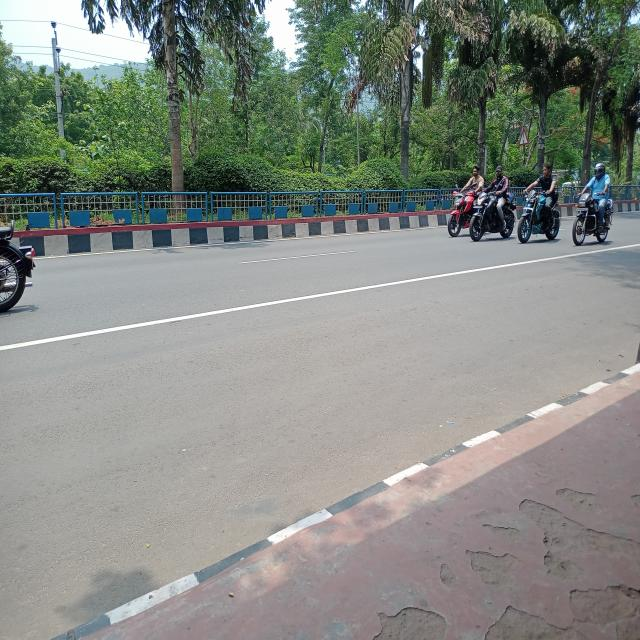bike: (570, 188, 616, 249), (516, 190, 564, 247), (467, 193, 516, 245), (436, 189, 468, 240)
